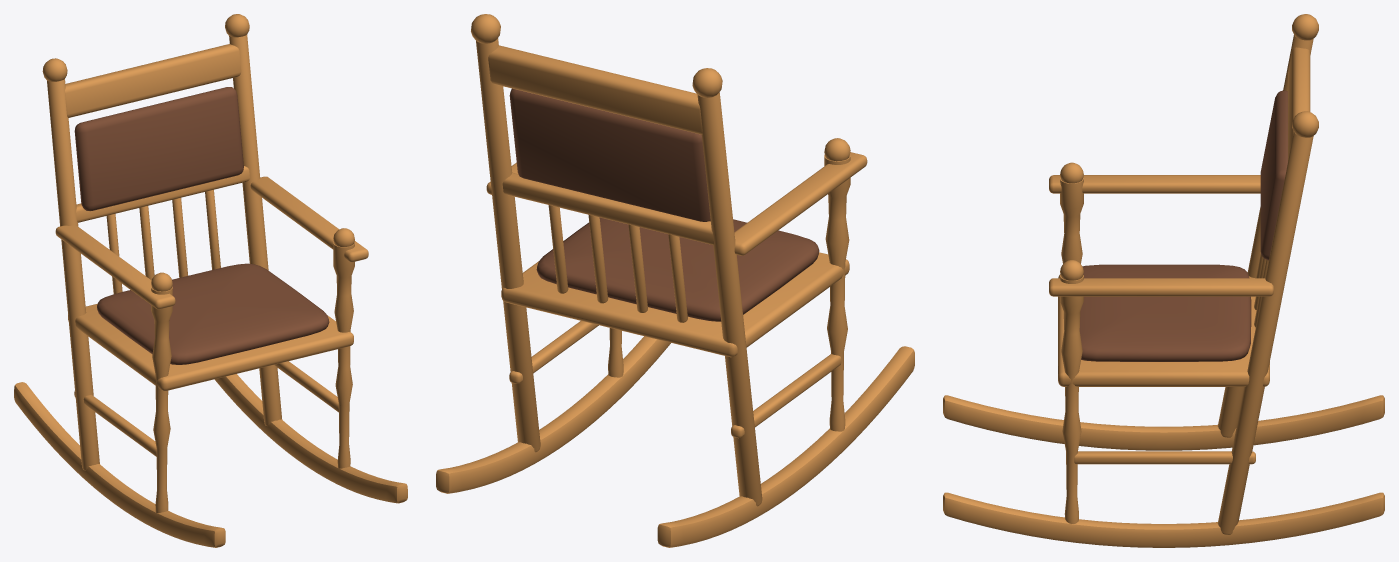
Rendered from cadeira_balanco_madeira.glb.
3 views of the same model, side by side, from view 1: azimuth 30°, elevation 25°; view 2: azimuth 150°, elevation 25°; view 3: azimuth 270°, elevation 25° (orthographic). The views are drawn at different scales.
Parts seen in each view (by area): view 1: cadeira_balanco_madeira; view 2: cadeira_balanco_madeira; view 3: cadeira_balanco_madeira.
Boxes of the visible parts, x1,y1,x2,y2 form: cadeira_balanco_madeira: [14, 14, 407, 547]; cadeira_balanco_madeira: [436, 14, 914, 547]; cadeira_balanco_madeira: [943, 14, 1384, 547].
Bounding box in the file's own units: 0.585 × 1.04 × 0.96.
Materials: 1 (1 with a texture image).
